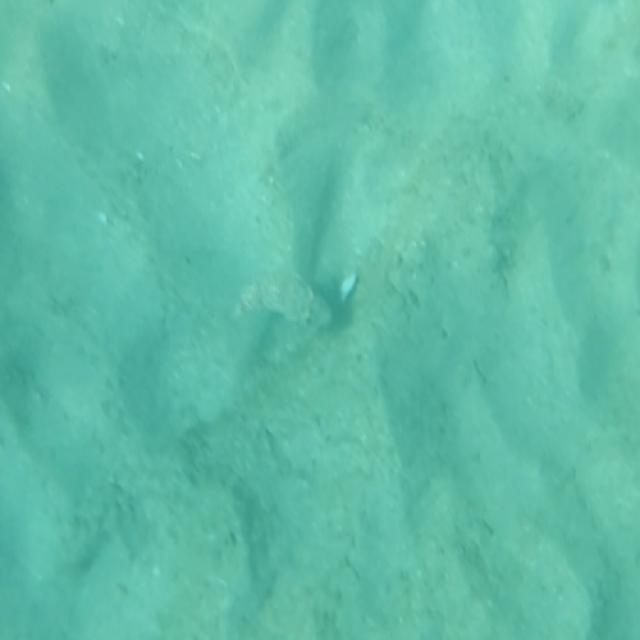Balik: (236, 272, 330, 327)
